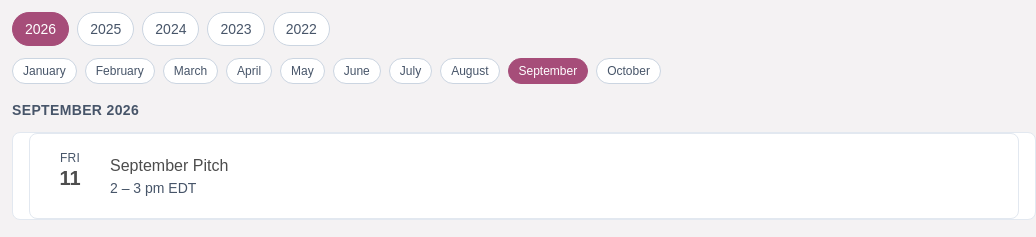
Scenario: PastEventsBrowser › leaves out a session whose event follows it, and says when a month has nothing
Expected: the link "September Pitch 2 – 3 pm EDT" is shown, [110, 157, 228, 196]
Step 1. Click the button "July" → point(410, 71), box [389, 58, 432, 84]
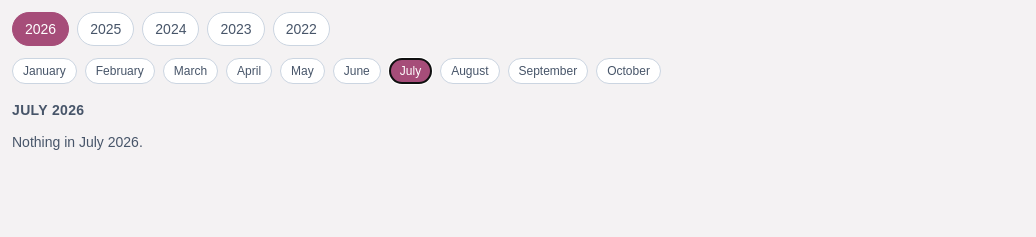
Expected: the text "Nothing in July 2026." is shown, [12, 134, 143, 150]
